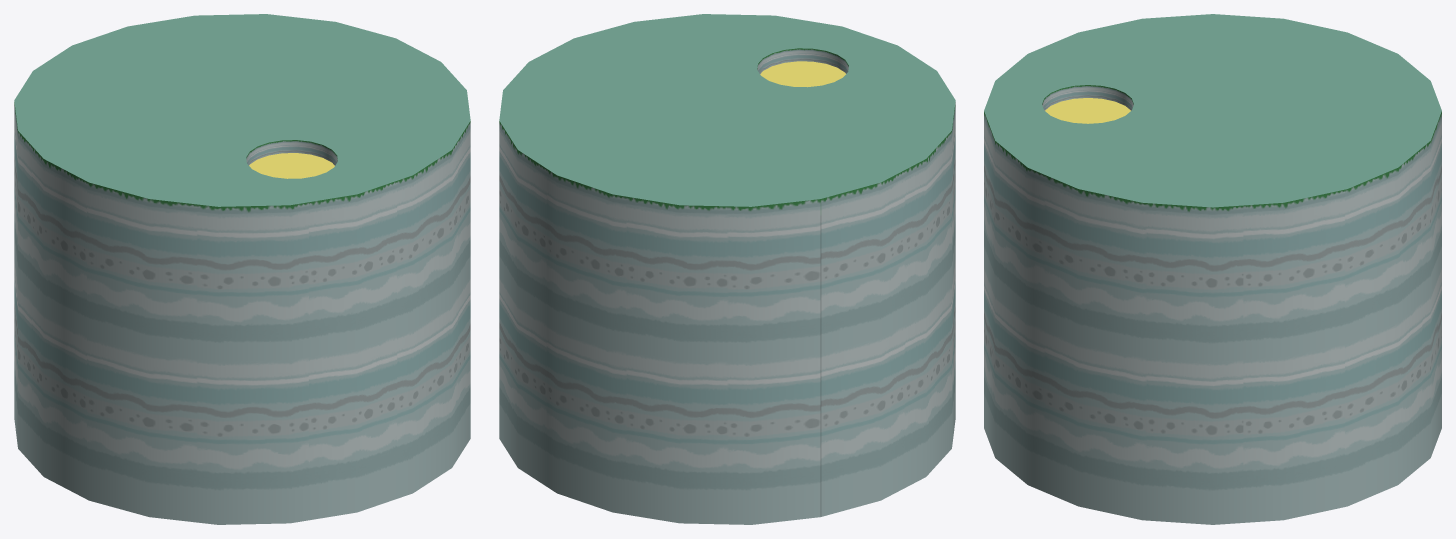
File: StartingOval.fbx
The picture shows the model from 3 angles, left to right: view 1: azimuth 30°, elevation 25°; view 2: azimuth 150°, elevation 25°; view 3: azimuth 270°, elevation 25°; orthographic projection.
Visible parts, largest first — view 1: pCylinder1; view 2: pCylinder1; view 3: pCylinder1.
Boxes of the visible parts, x1=… form: pCylinder1: x1=14, y1=14, x2=470, y2=524; pCylinder1: x1=499, y1=14, x2=955, y2=524; pCylinder1: x1=984, y1=14, x2=1441, y2=524.
Size of the model in its own units: 42.31 by 32.36 by 42.31.
